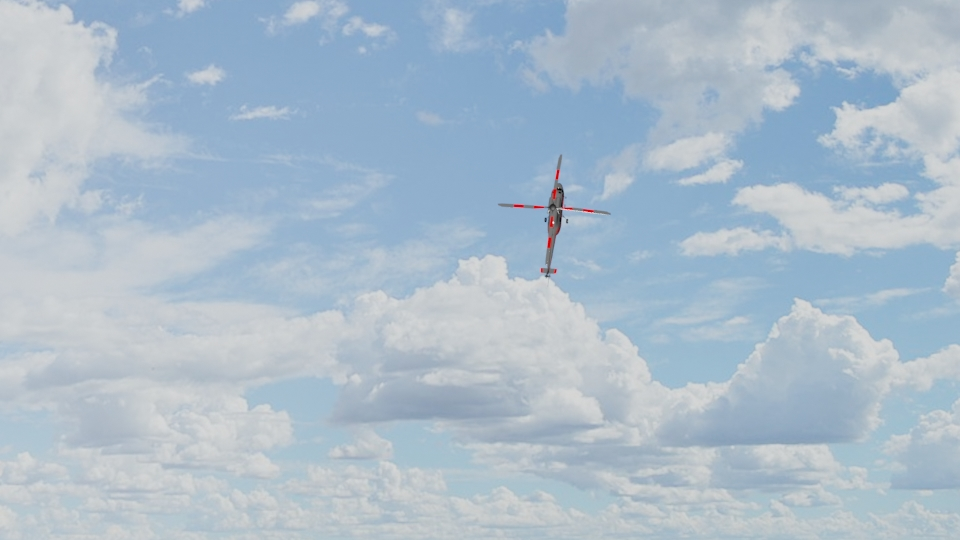heli: (498, 152, 613, 277)
